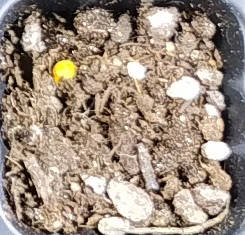pepper seed: (13, 15, 91, 103)
